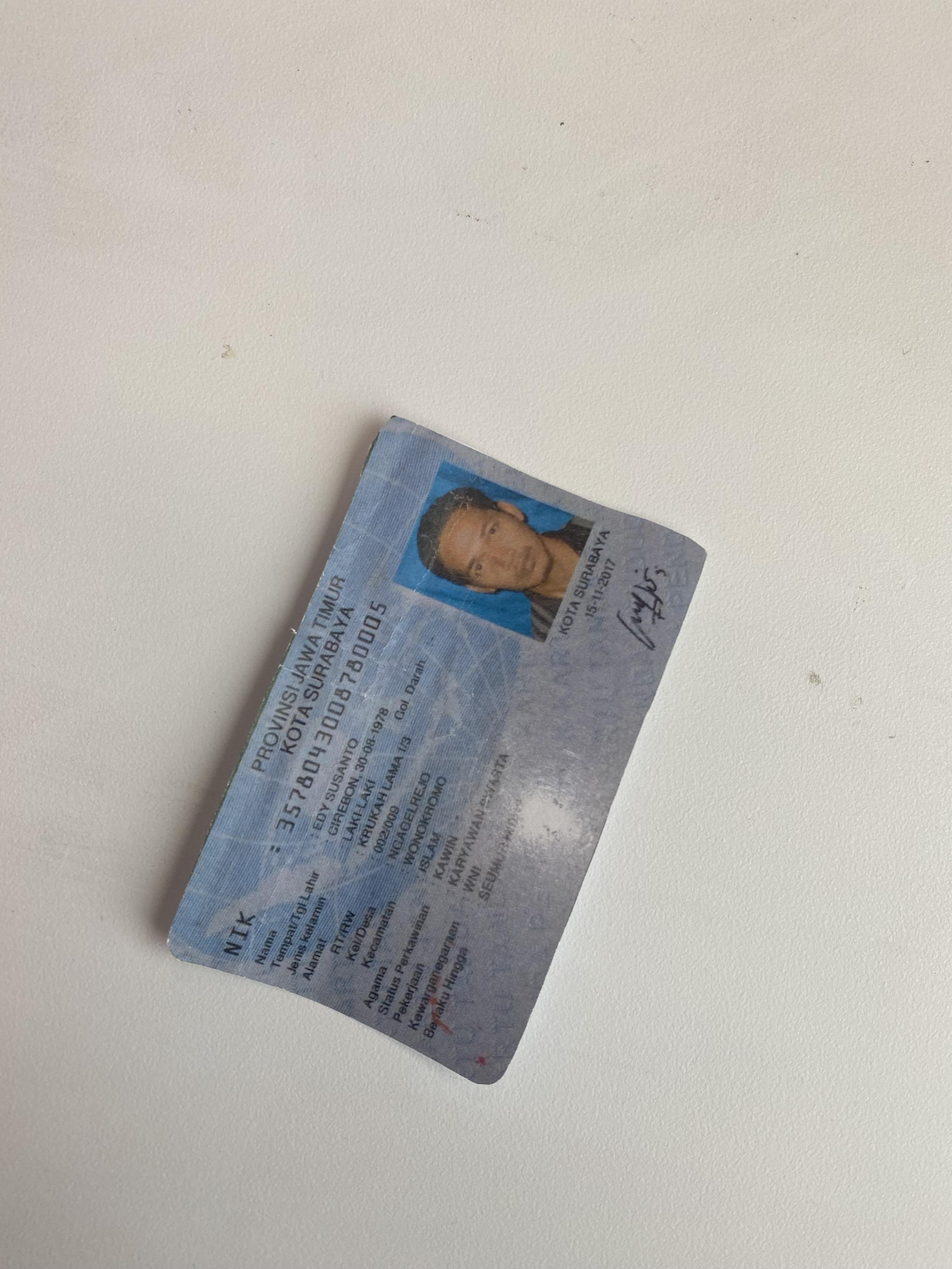ktp: (143, 408, 709, 1087)
